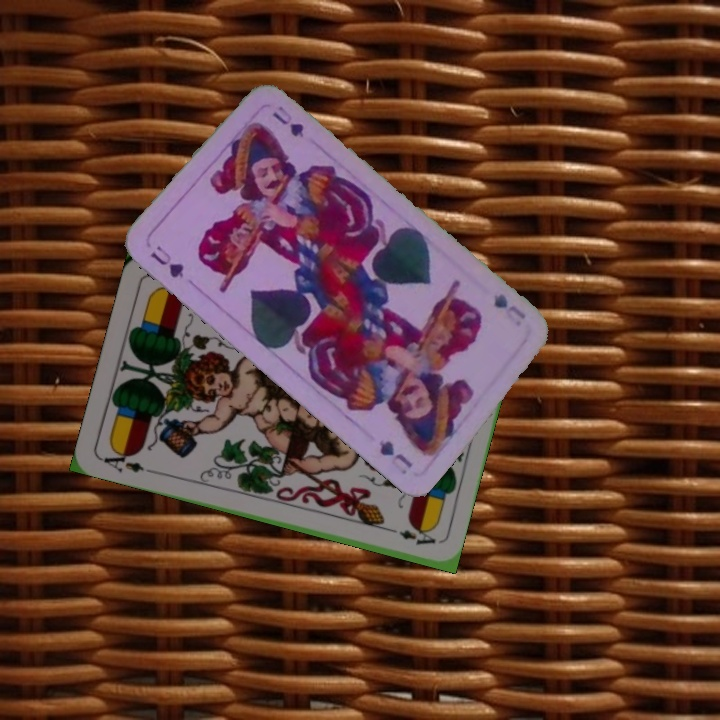EA: (98, 445, 147, 476)
GU: (146, 241, 187, 281), (489, 289, 529, 322)
